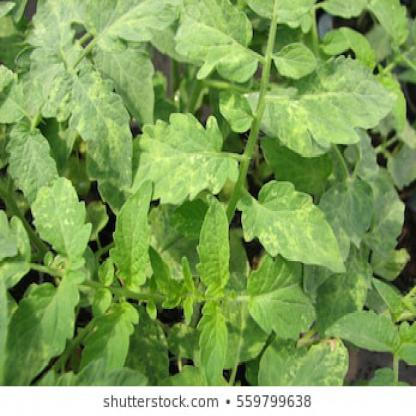tomato leaf mosaic virus: (259, 55, 396, 155), (104, 108, 237, 204), (237, 180, 349, 276), (2, 269, 89, 380), (91, 28, 162, 134), (71, 74, 134, 189), (174, 4, 257, 86), (243, 260, 322, 343), (30, 171, 92, 276), (111, 178, 161, 293), (197, 193, 235, 296), (326, 303, 398, 357), (198, 299, 233, 385), (273, 43, 316, 82)
